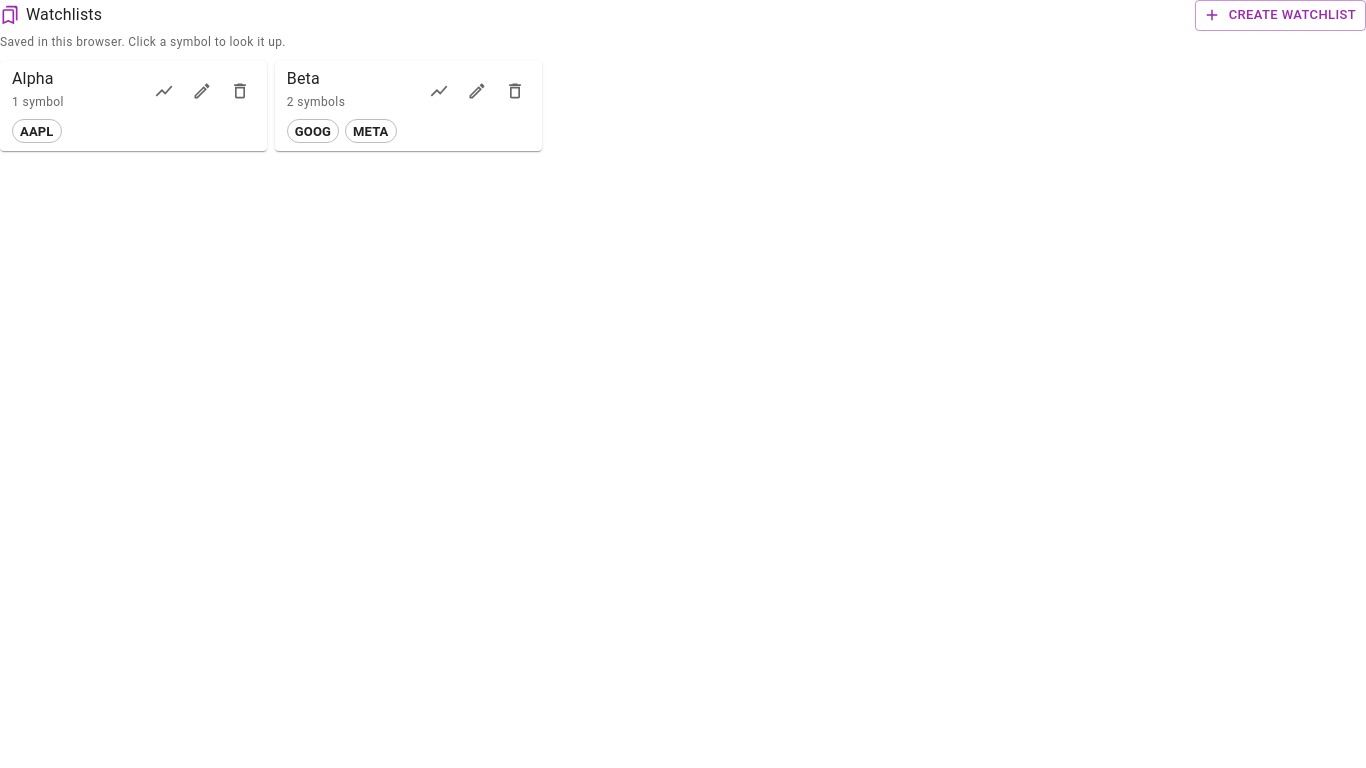
Test: WatchlistsSection › lists the watchlists in order with a Create button in the title row
This screenshot has width=1366, height=768.
Step 1. Click the button "Create watchlist" → (1280, 15), box [1195,0,1365,31]
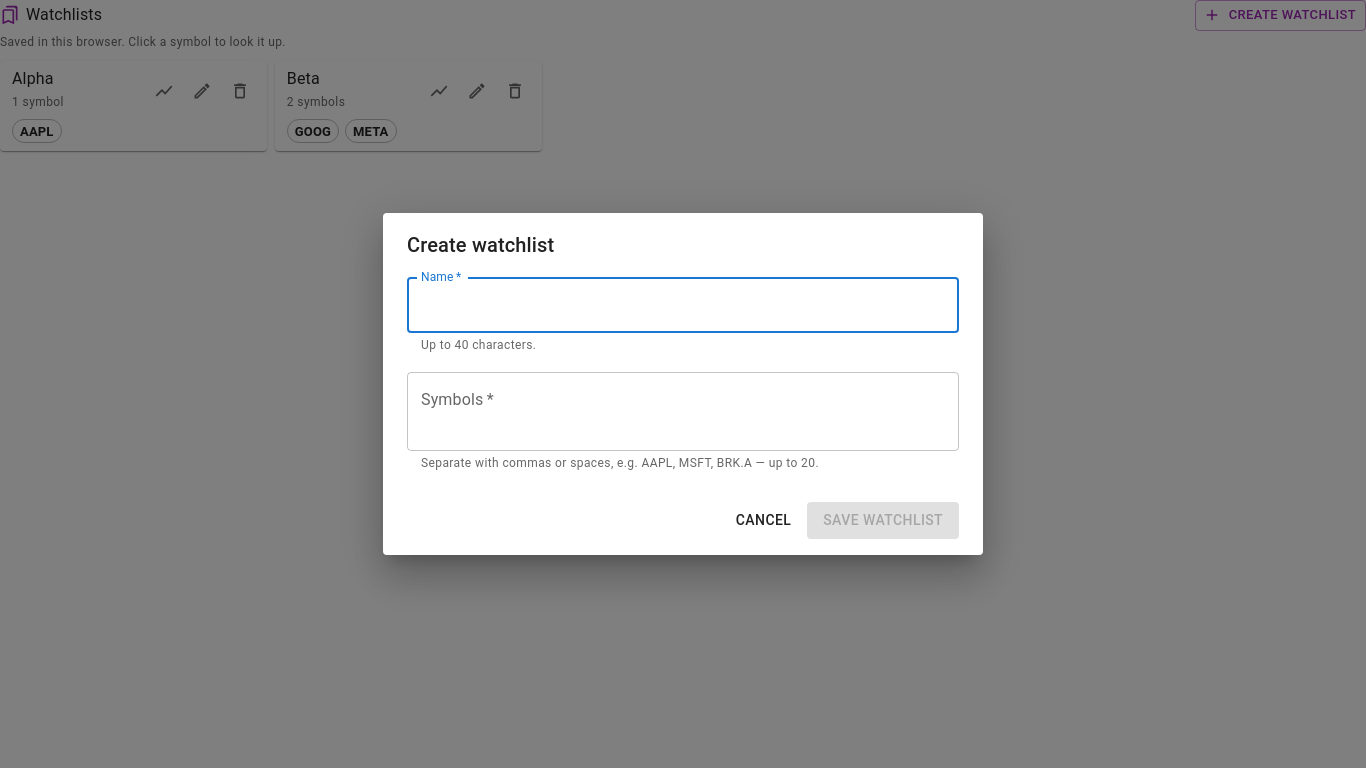
Expected: the dialog "Create watchlist" is shown, [383,213,983,555]
